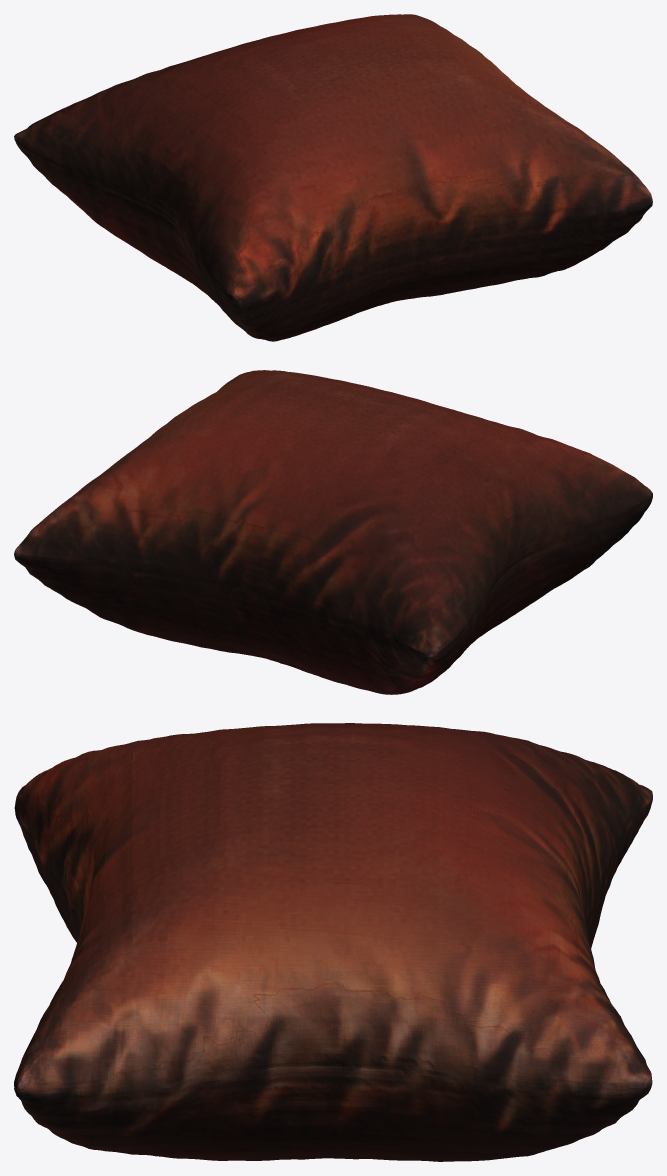
File: cushion of rest.glb
3 views of the same model, one above another, from view 1: azimuth 30°, elevation 25°; view 2: azimuth 150°, elevation 25°; view 3: azimuth 270°, elevation 25° (orthographic). The views are drawn at different scales.
Size of the model in its own units: 1 by 0.5033 by 0.9134.
1 material, 1 textured.
